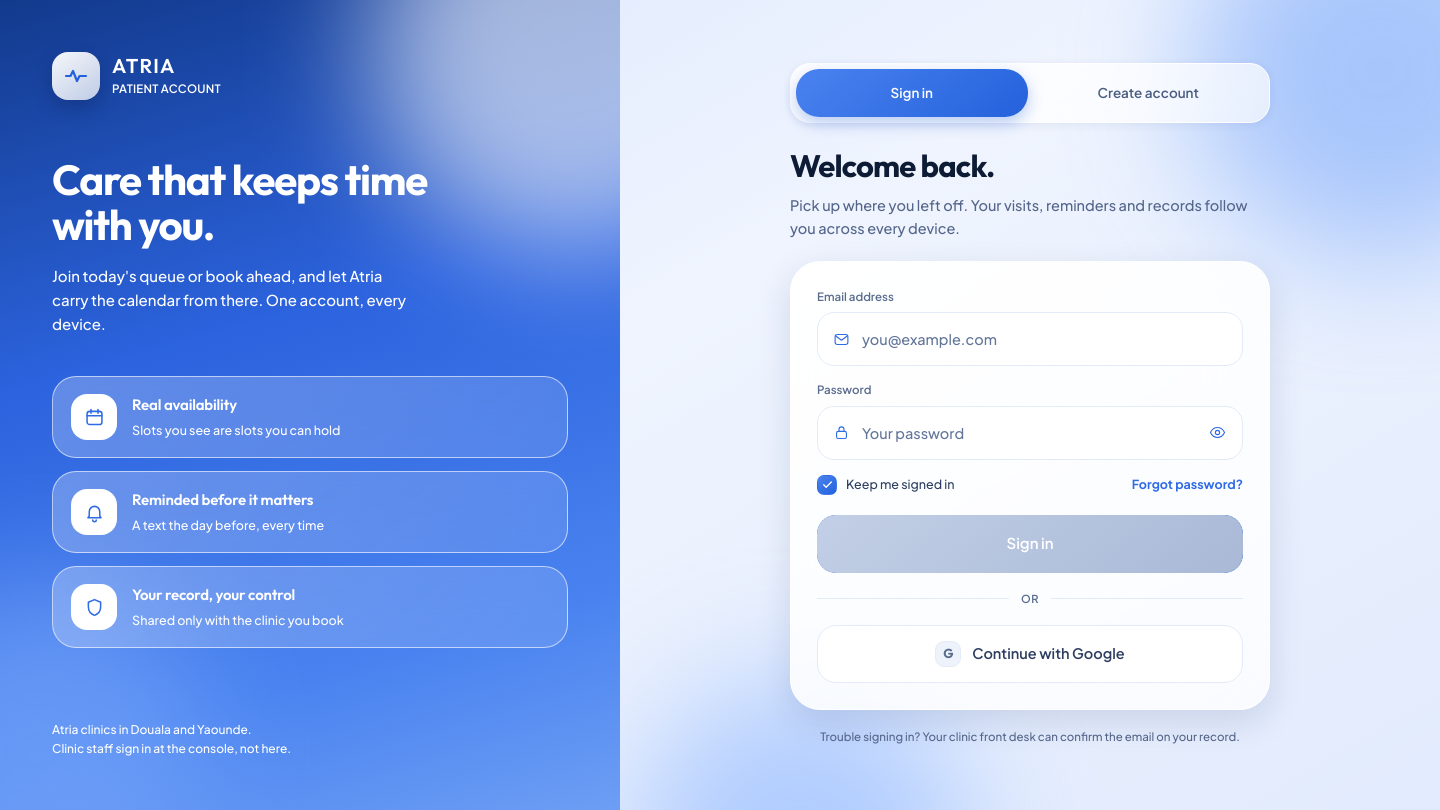
PatientSignIn › reports an account the API cannot resolve instead of pretending it signed in
Type "  amina@example.com " into the field labelled "Email address" at (1044, 339), box [860,313,1227,365]
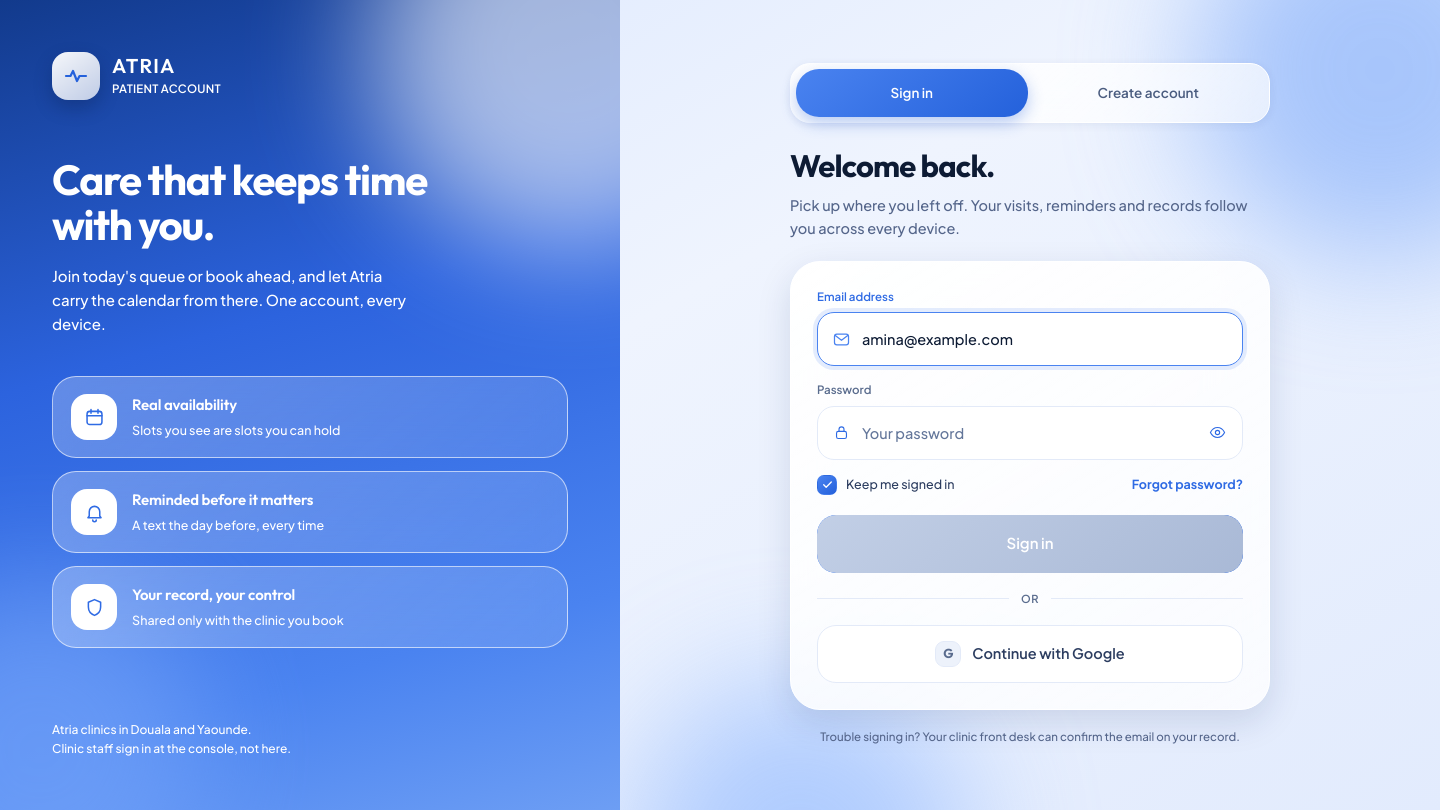
Type "Douala-Clinic-2026" into the password field labelled "Password" at (1026, 433), box [860,407,1191,459]
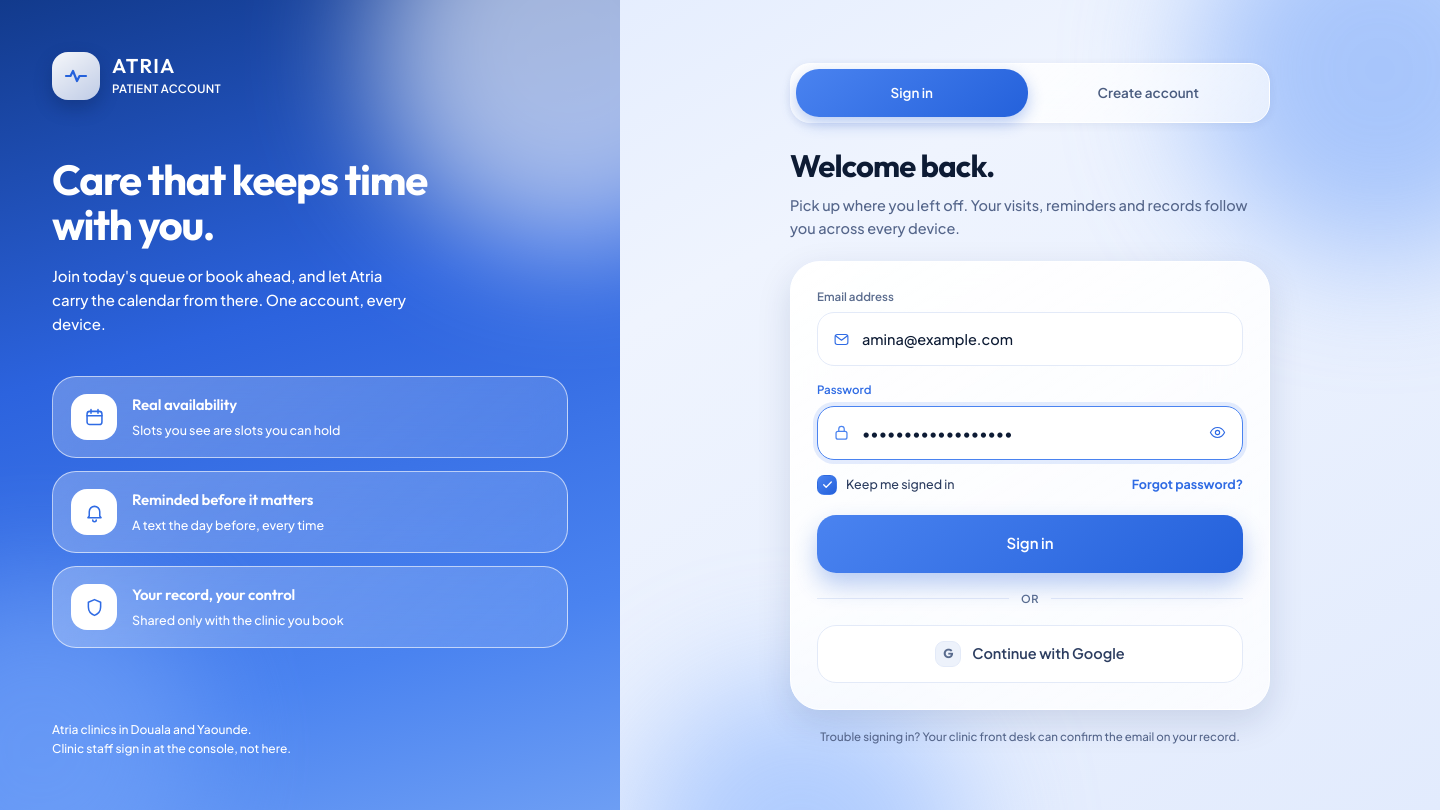
Click the button "Sign in" at (1030, 544), box [817,515,1243,573]
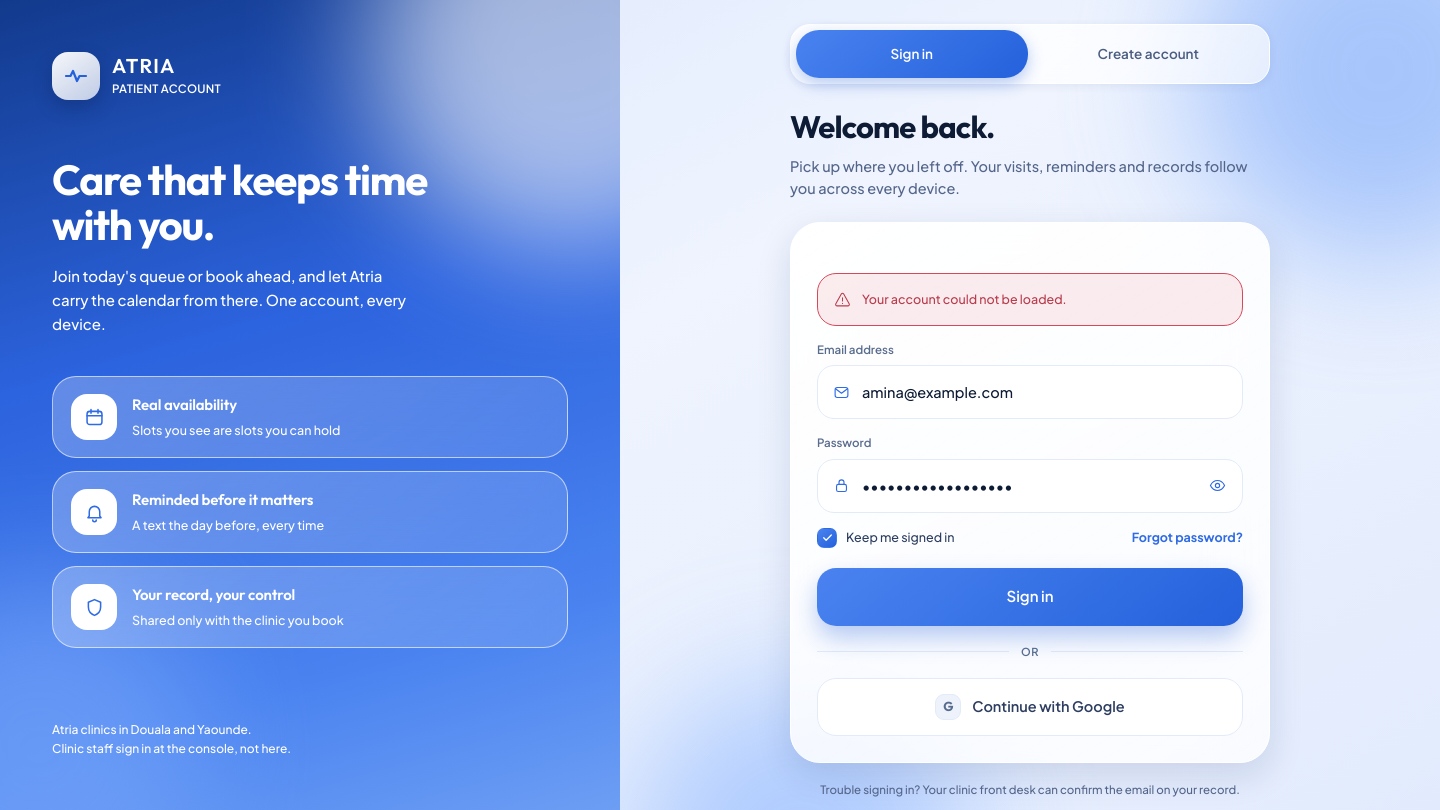
expect the message reads "Your account could not be loaded.": met, box [862,291,1066,307]
